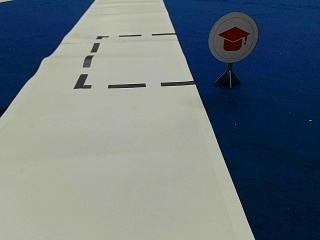school: (209, 13, 258, 61)
